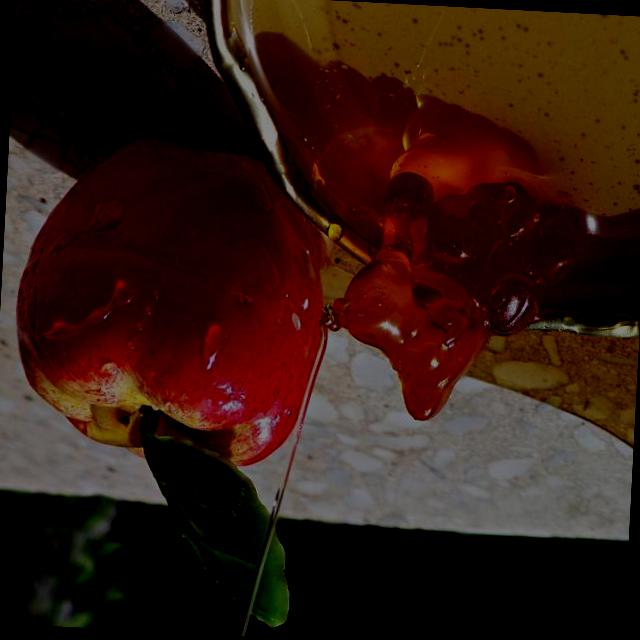Apple: (8, 128, 333, 470)
